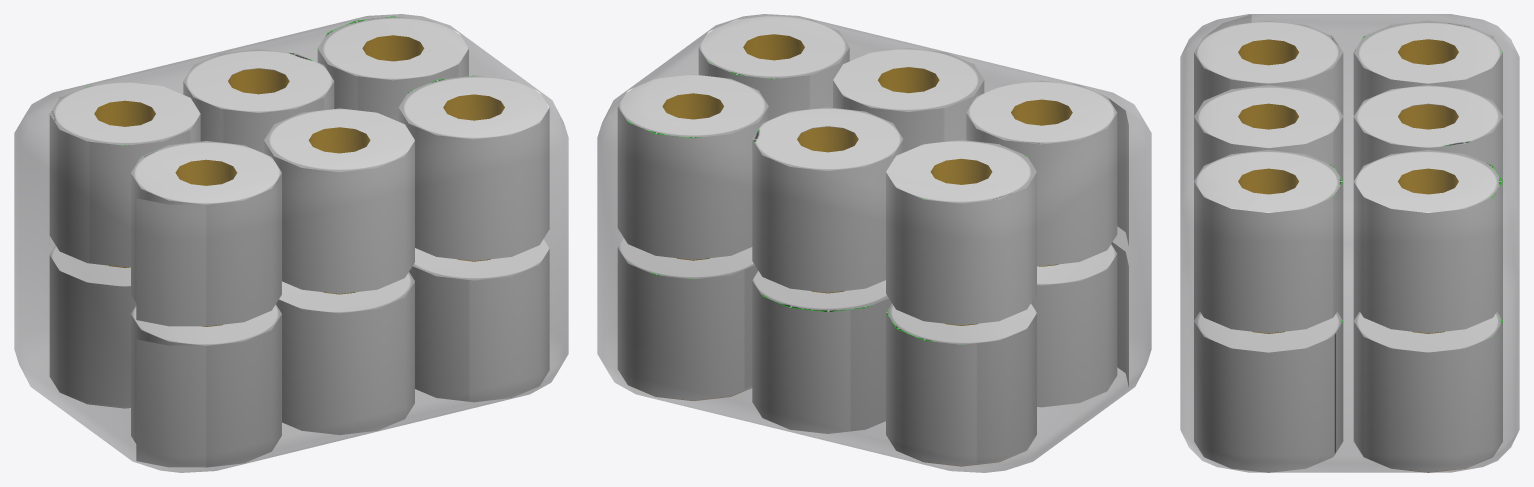
The model's file is ToiletPaper.FBX.
3 views of the same model, side by side, from view 1: azimuth 30°, elevation 25°; view 2: azimuth 150°, elevation 25°; view 3: azimuth 270°, elevation 25° (orthographic).
Visible parts, largest first — view 1: TPBag; view 2: TPBag; view 3: TPBag.
Part boxes in pixels (<box>): TPBag: <box>14,14,568,472</box>; TPBag: <box>597,14,1151,472</box>; TPBag: <box>1180,14,1519,472</box>.
Size of the model in its own units: 13419 by 8185 by 9182.
2 materials, 1 textured.
